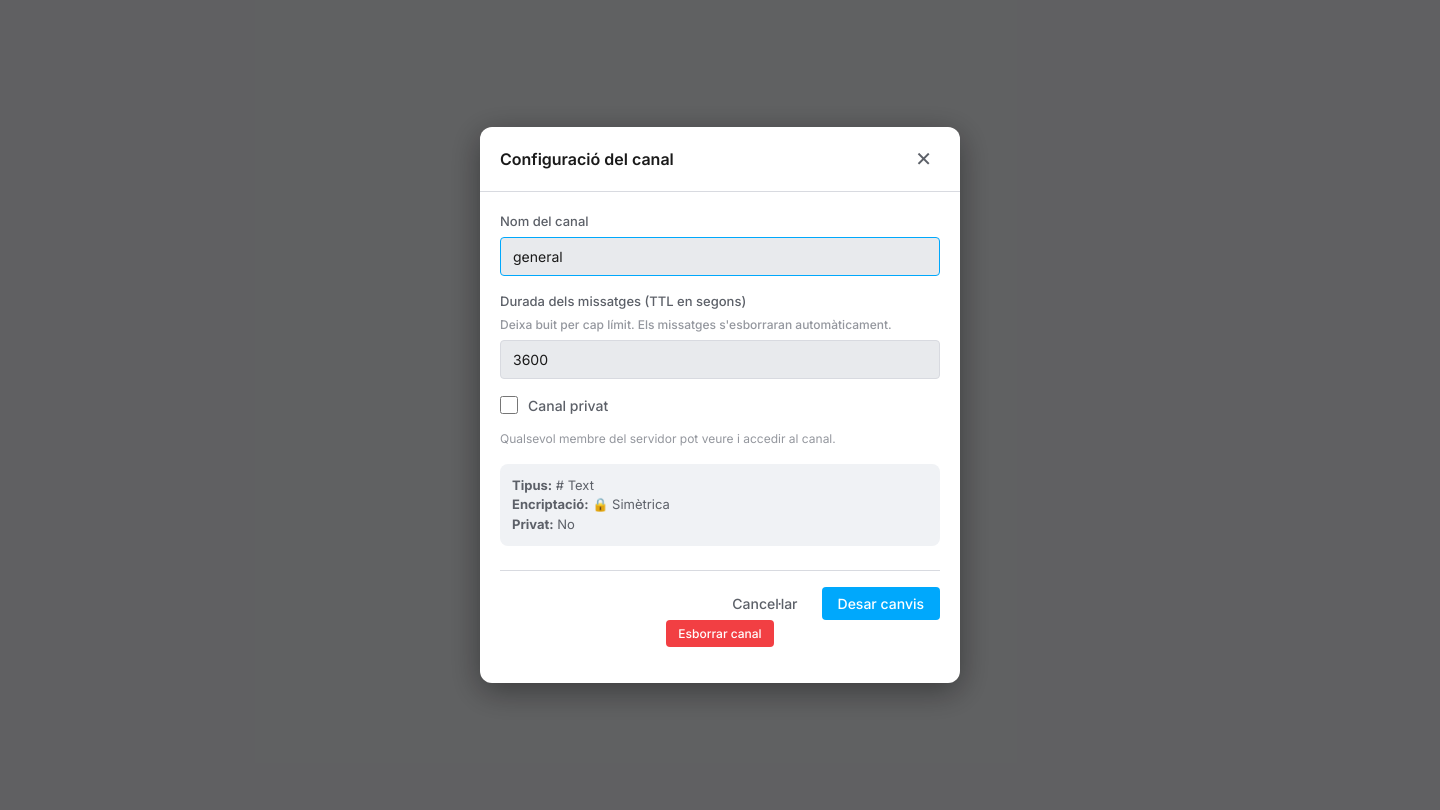
it: ConfigureChannelModal › mostra confirmació d'esborrat en clicar el botó
Click the button "Esborrar canal" at [720, 634], box [666, 620, 774, 647]
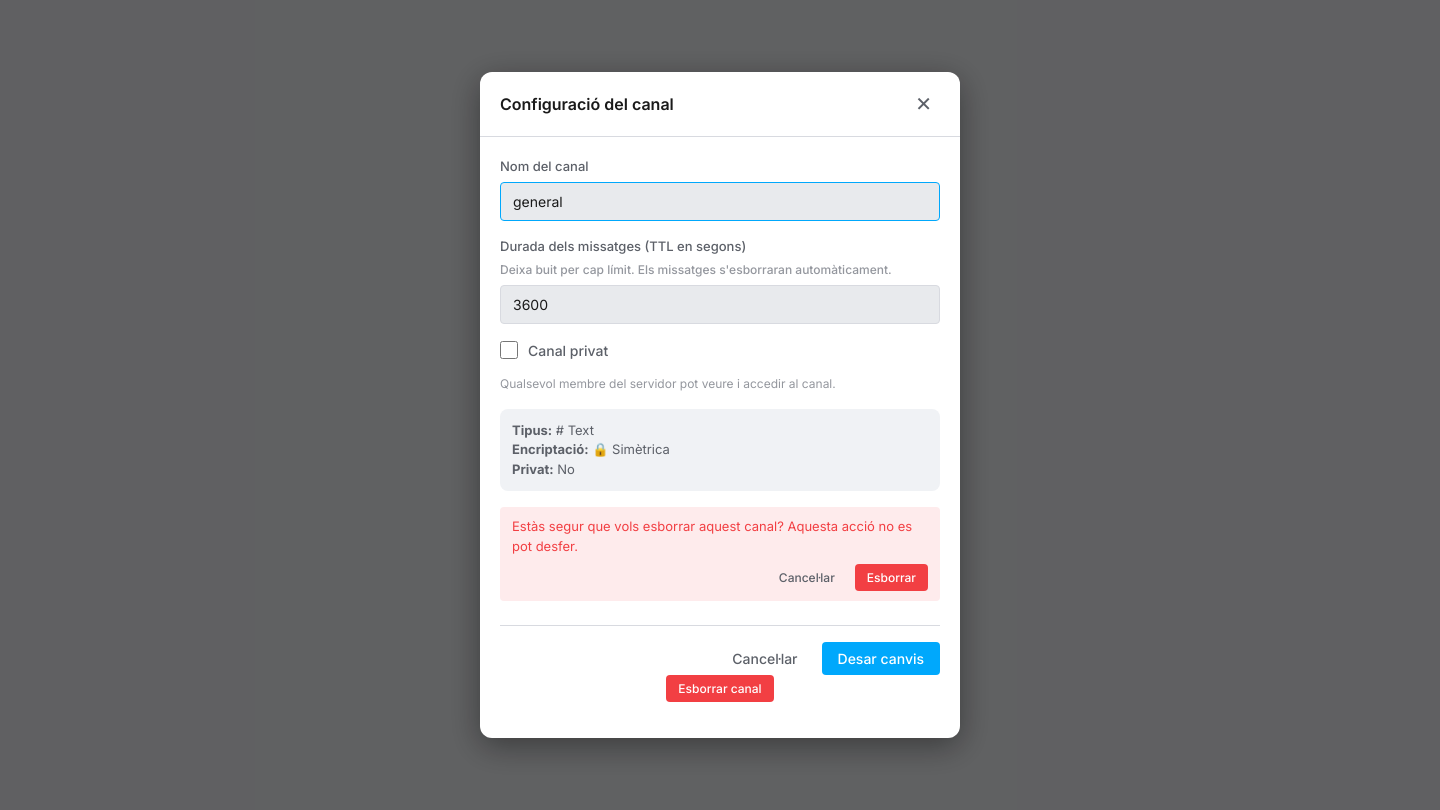
Check: the text "Estàs segur que vols esborrar aquest canal" is shown, box [512, 518, 912, 554]
Check: the button "Esborrar" is shown, box [855, 564, 928, 591]
Check: the number of buttons "Cancel·lar" is 2, box [767, 564, 847, 591]; [716, 642, 814, 675]
